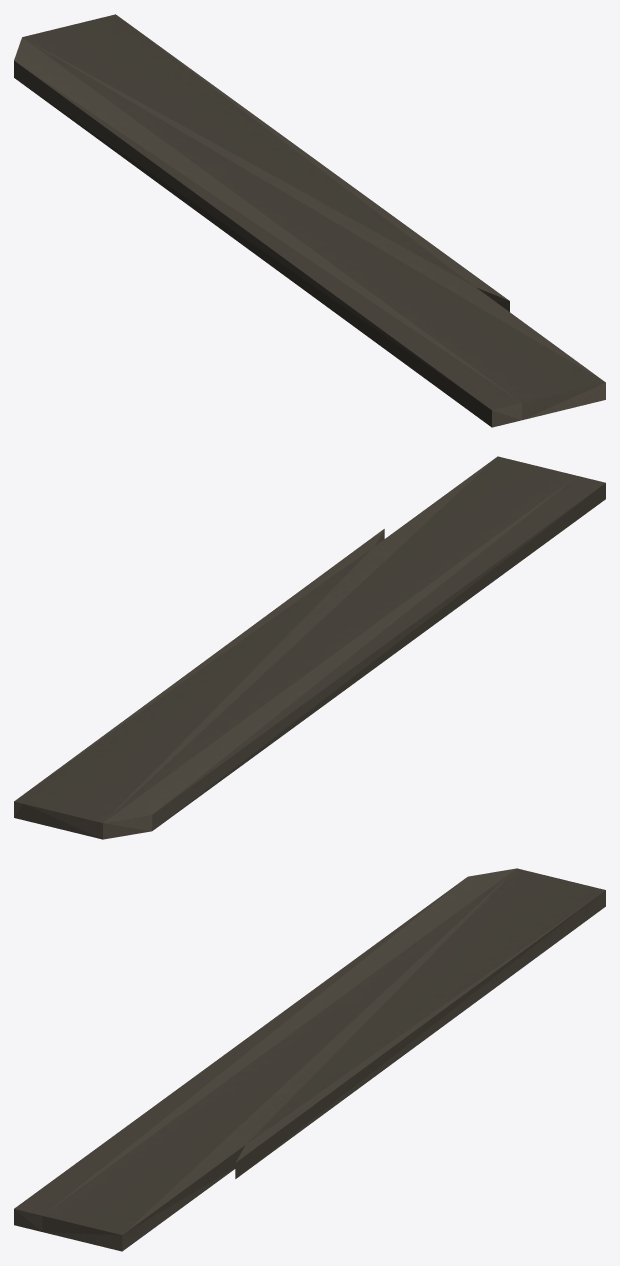
The model's file is Wood_1A.fbx.
3 views of the same model, one above another, from view 1: azimuth 30°, elevation 25°; view 2: azimuth 150°, elevation 25°; view 3: azimuth 330°, elevation 25° (orthographic). The views are drawn at different scales.
Parts seen in each view (by area): view 1: pCube994; view 2: pCube994; view 3: pCube994.
Boxes of the visible parts, <box> form: pCube994: <box>14,14,605,427</box>; pCube994: <box>14,456,605,839</box>; pCube994: <box>14,868,605,1251</box>.
Bounding box in the file's own units: 0.609 × 0.08 × 4.2.
